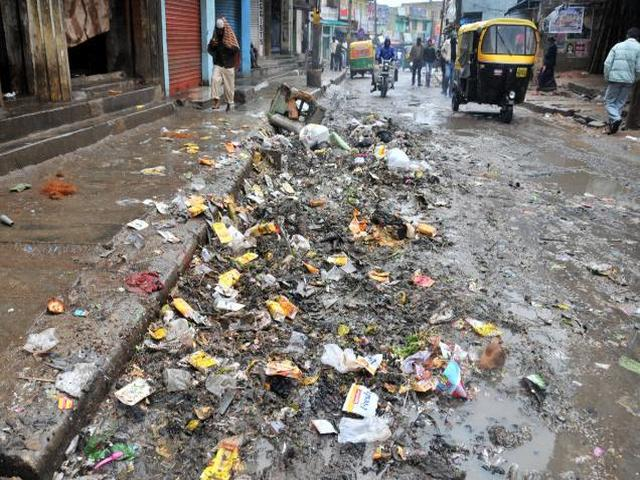garbage: (259, 137, 427, 473), (172, 293, 318, 457)
